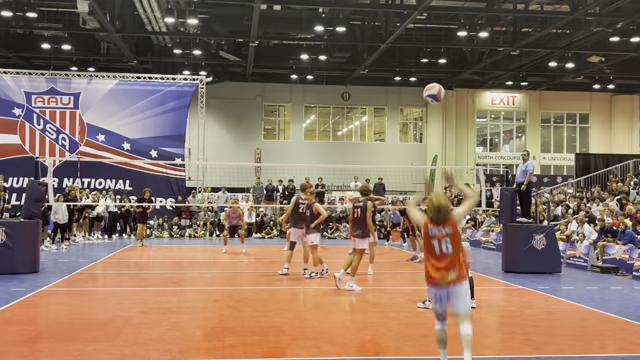Player: (334, 184, 376, 290), (279, 183, 308, 275), (304, 188, 328, 278), (398, 207, 423, 261), (368, 195, 385, 274), (222, 199, 245, 252), (135, 188, 153, 246), (463, 236, 476, 308), (365, 240, 377, 274)
Serve: (404, 169, 485, 360)
ball: (423, 81, 445, 104)
